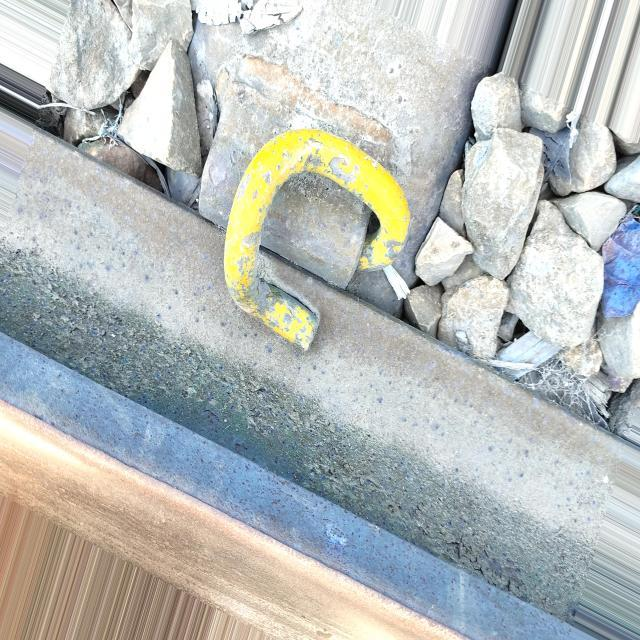Good Fasteners: (148, 23, 427, 416)
